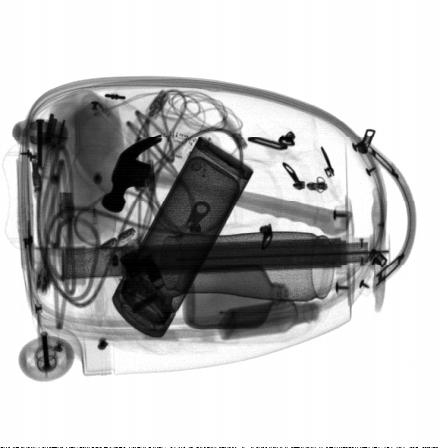Hammer: (100, 134, 354, 236)
